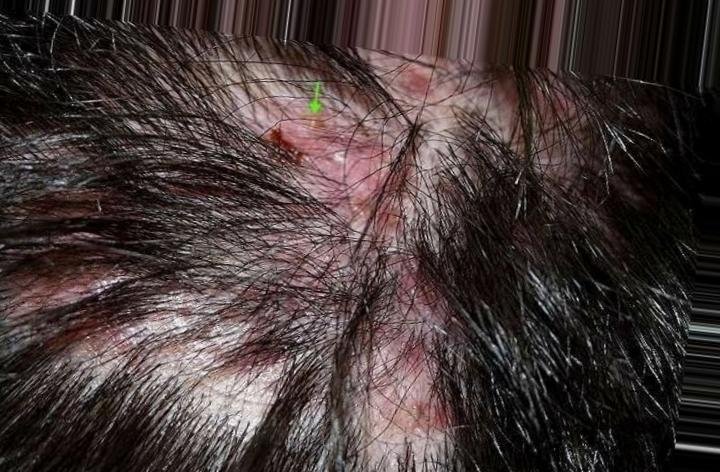Folliculitis: (189, 59, 466, 421)
